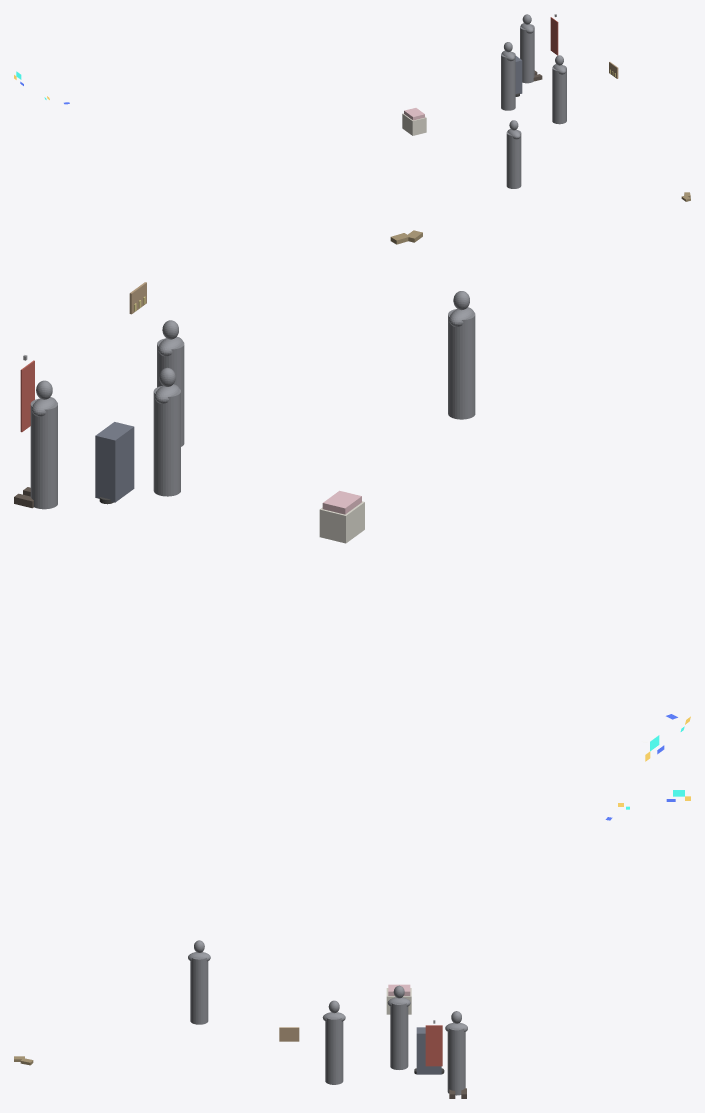
The model's file is room-props.glb.
3 renders of one model, top to bottom at view 1: azimuth 30°, elevation 25°; view 2: azimuth 150°, elevation 25°; view 3: azimuth 270°, elevation 25°, orthographic. The views are drawn at different scales.
Visible parts, largest first — view 1: emp_who/staff_gardener|MI_figure, emp_who/staff_housekeeper|MI_figure, emp_who/staff_nanny|MI_figure, emp_who/staff_driver|MI_figure, emp/basket|MI_basket, emp/apron|MI_apron; view 2: emp_who/staff_gardener|MI_figure, emp_who/staff_nanny|MI_figure, emp_who/staff_driver|MI_figure, emp/stroller|MI_stroller, emp_who/staff_housekeeper|MI_figure, emp/basket|MI_basket, emp/apron|MI_apron; view 3: emp_who/staff_housekeeper|MI_figure, emp_who/staff_gardener|MI_figure, emp_who/staff_nanny|MI_figure, emp_who/staff_driver|MI_figure, emp/apron|MI_apron, emp/stroller|MI_stroller.
Boxes of the visible parts, bbox=[...] form: emp_who/staff_gardener|MI_figure: bbox=[506, 120, 521, 188]; emp_who/staff_housekeeper|MI_figure: bbox=[552, 55, 566, 124]; emp_who/staff_nanny|MI_figure: bbox=[501, 42, 515, 110]; emp_who/staff_driver|MI_figure: bbox=[520, 14, 534, 83]; emp/basket|MI_basket: bbox=[402, 113, 426, 135]; emp/apron|MI_apron: bbox=[550, 17, 558, 55]; emp_who/staff_gardener|MI_figure: bbox=[448, 291, 475, 419]; emp_who/staff_nanny|MI_figure: bbox=[153, 367, 180, 496]; emp_who/staff_driver|MI_figure: bbox=[30, 380, 57, 509]; emp/stroller|MI_stroller: bbox=[95, 422, 134, 502]; emp_who/staff_housekeeper|MI_figure: bbox=[157, 320, 184, 446]; emp/basket|MI_basket: bbox=[319, 501, 364, 543]; emp/apron|MI_apron: bbox=[20, 360, 34, 432]; emp_who/staff_housekeeper|MI_figure: bbox=[322, 1000, 345, 1084]; emp_who/staff_gardener|MI_figure: bbox=[188, 940, 210, 1024]; emp_who/staff_nanny|MI_figure: bbox=[387, 985, 410, 1069]; emp_who/staff_driver|MI_figure: bbox=[445, 1011, 467, 1095]; emp/apron|MI_apron: bbox=[425, 1025, 442, 1066]; emp/stroller|MI_stroller: bbox=[416, 1027, 441, 1074].
Size of the model in its own units: 12.39 by 1.83 by 13.55.
